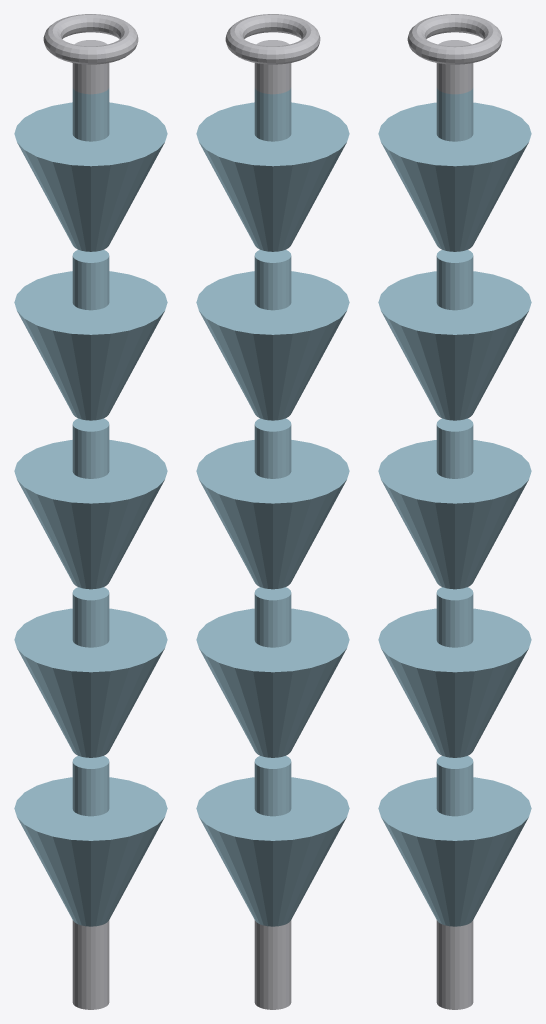
The model's file is Cadena_699mm.fbx.
The picture shows the model from 3 angles, left to right: view 1: azimuth 30°, elevation 25°; view 2: azimuth 150°, elevation 25°; view 3: azimuth 270°, elevation 25°; orthographic projection.
Parts seen in each view (by area): view 1: Cadena_699mm; view 2: Cadena_699mm; view 3: Cadena_699mm.
Boxes of the visible parts, left/top/right/bottom form: Cadena_699mm: left=14, top=14, right=167, bottom=1009; Cadena_699mm: left=196, top=14, right=349, bottom=1009; Cadena_699mm: left=378, top=14, right=531, bottom=1009.
Bounding box in the file's own units: 10 × 69.9 × 10.
